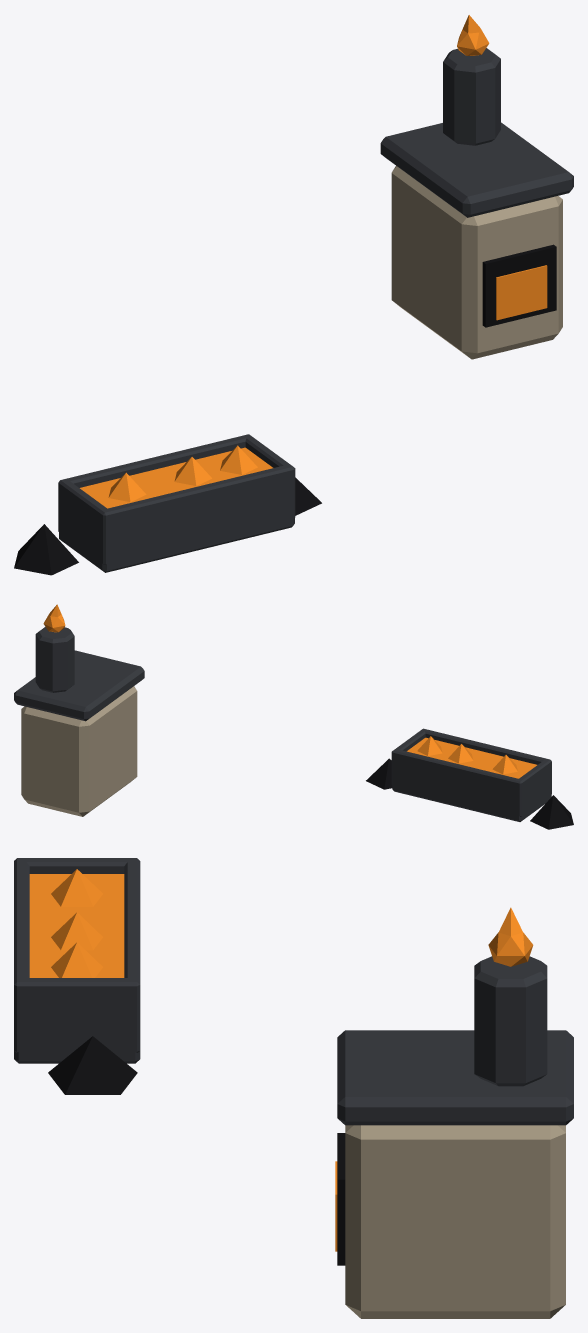
Rendered from FlameDressA2.obj.
3 renders of one model, top to bottom at view 1: azimuth 30°, elevation 25°; view 2: azimuth 150°, elevation 25°; view 3: azimuth 270°, elevation 25°, orthographic. The views are drawn at different scales.
Visible parts, largest first — view 1: FlameDressA2; view 2: FlameDressA2; view 3: FlameDressA2.
Boxes of the visible parts, box(x1,y1,x2,y2) form: FlameDressA2: box(14, 15, 573, 575); FlameDressA2: box(14, 604, 573, 829); FlameDressA2: box(14, 858, 573, 1318).
Bounding box in the file's own units: 1.29 × 0.55 × 0.71.
